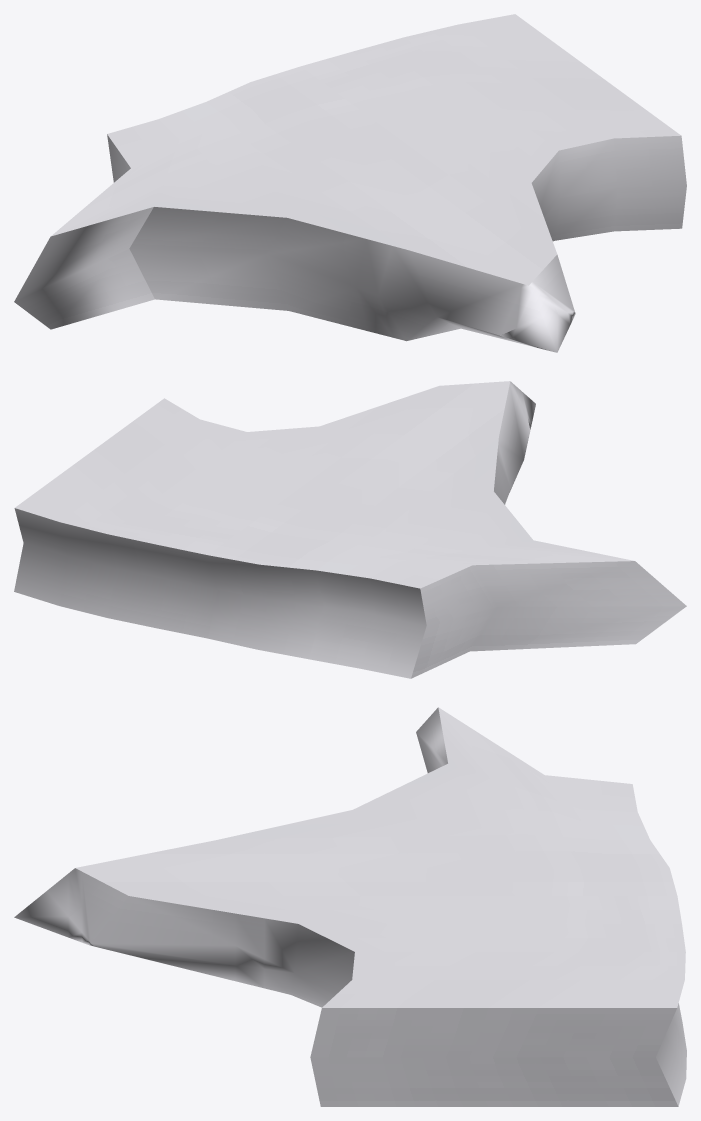
The model's file is SmallIce_M.fbx.
3 renders of one model, top to bottom at view 1: azimuth 30°, elevation 25°; view 2: azimuth 150°, elevation 25°; view 3: azimuth 270°, elevation 25°, orthographic. The views are drawn at different scales.
Parts seen in each view (by area): view 1: pCube3; view 2: pCube3; view 3: pCube3.
Boxes of the visible parts, left/top/right/bottom form: pCube3: left=14, top=14, right=686, bottom=352; pCube3: left=14, top=381, right=686, bottom=678; pCube3: left=14, top=707, right=686, bottom=1106.
Size of the model in its own units: 4.2 by 0.5958 by 3.67.
1 material, 1 textured.
